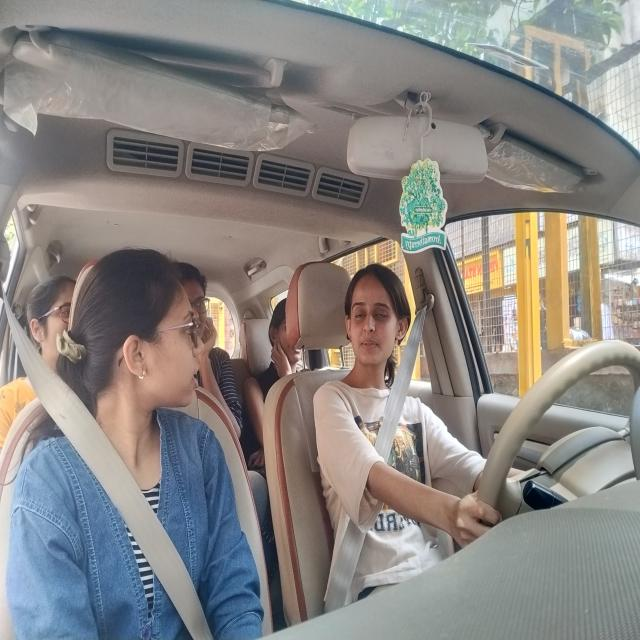LeftRight: (345, 264, 407, 366)
person: (100, 244, 206, 412), (25, 274, 78, 356), (186, 263, 218, 349), (270, 304, 303, 365)
